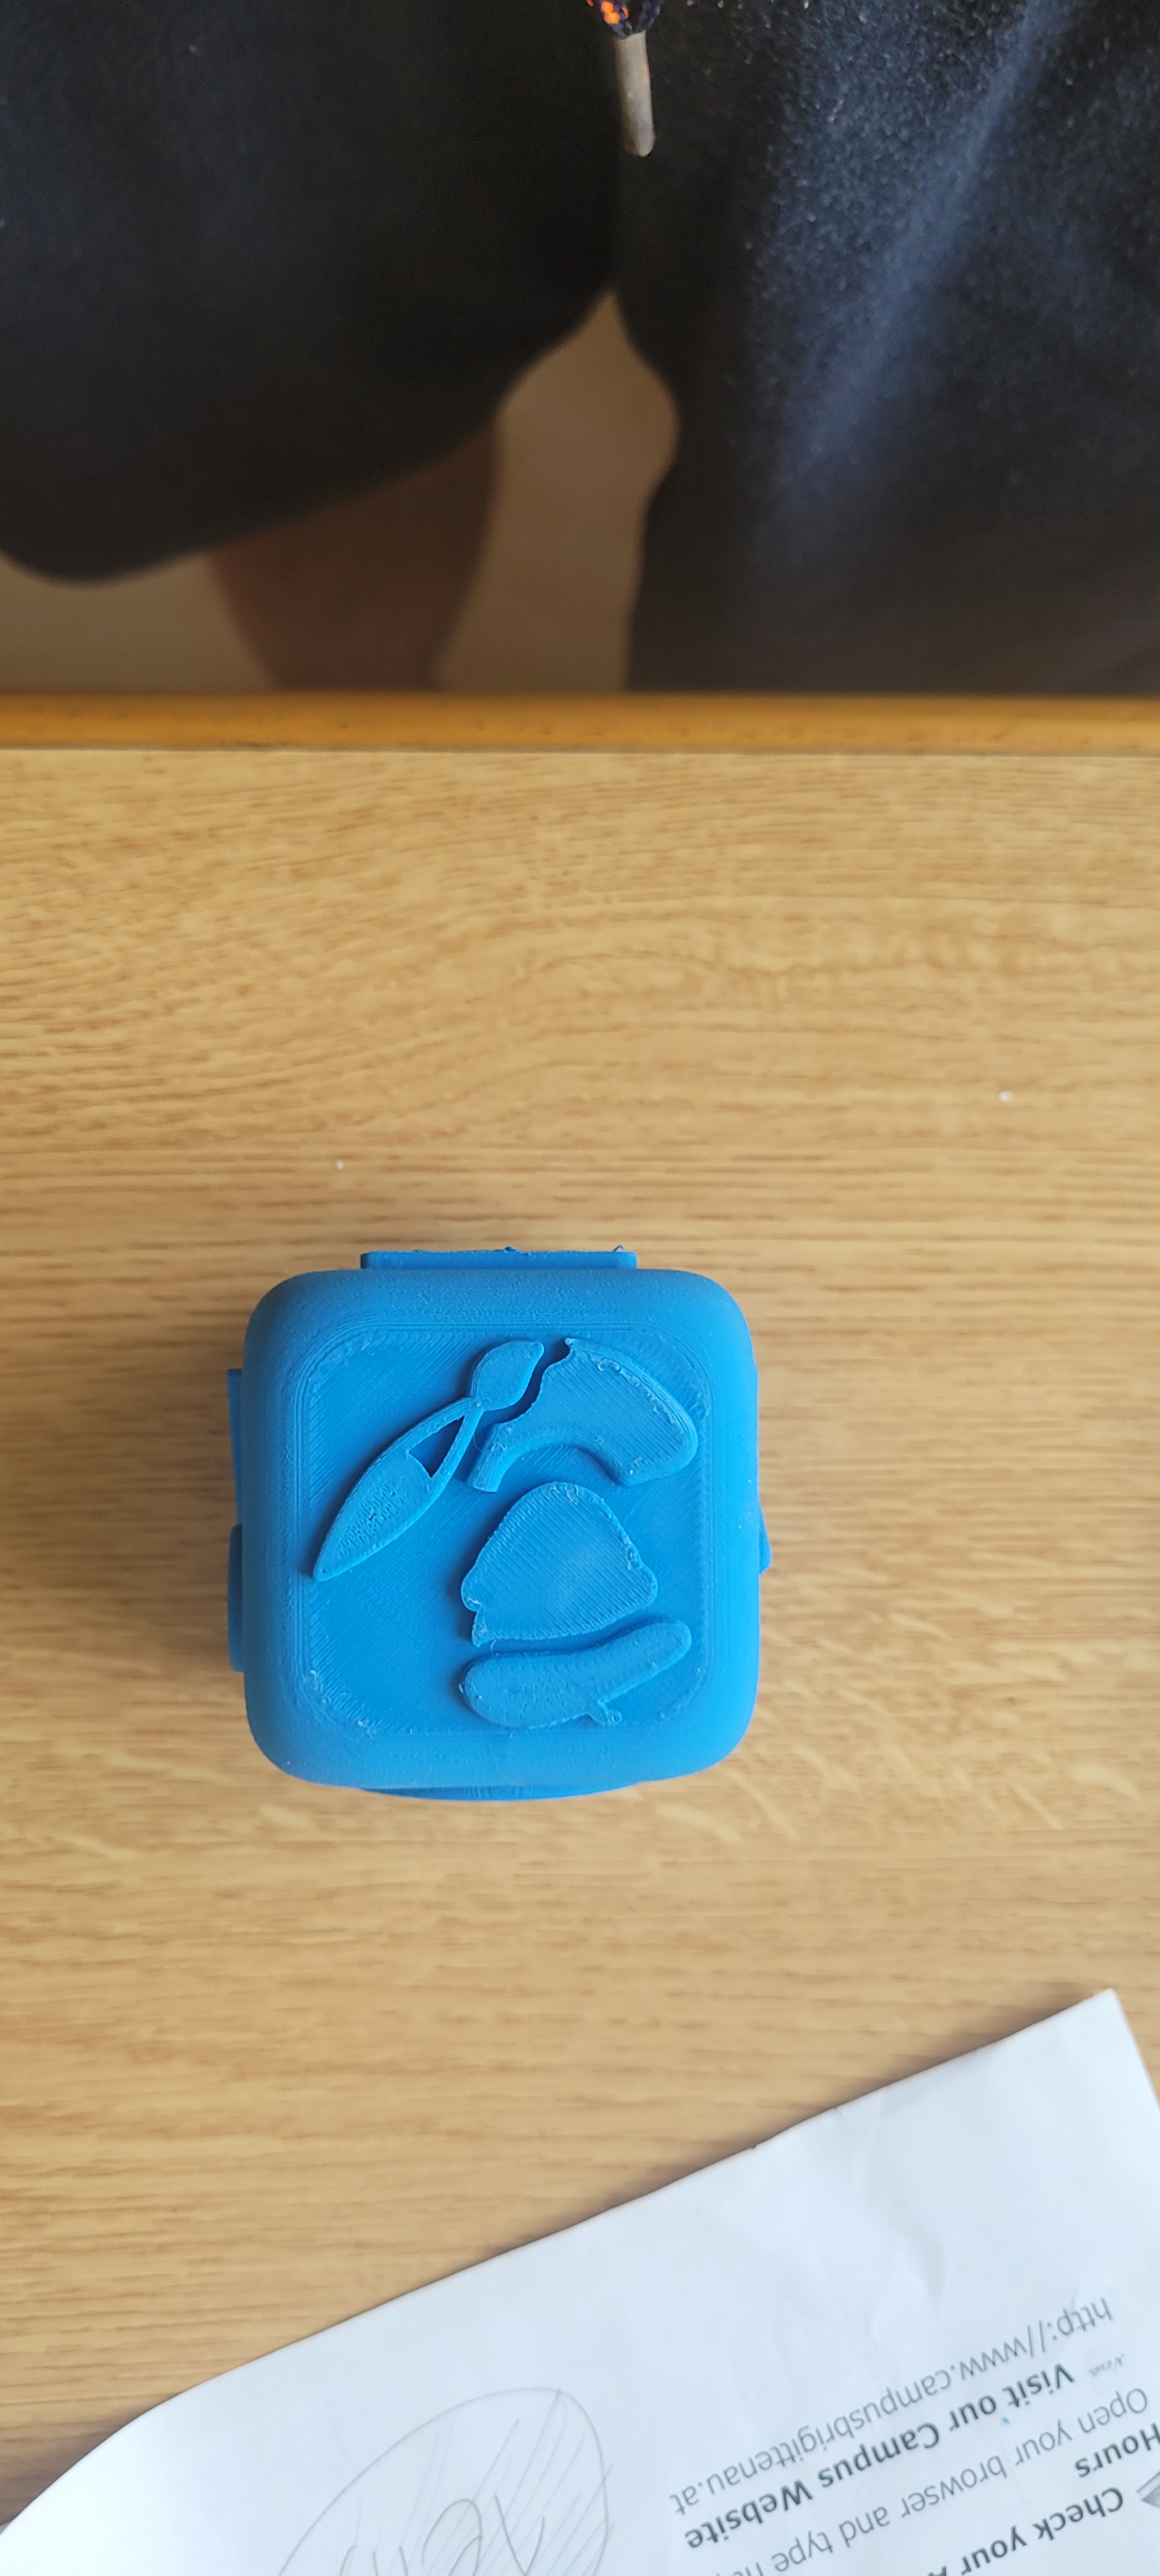Artist_Info: (242, 1235, 761, 1801)
